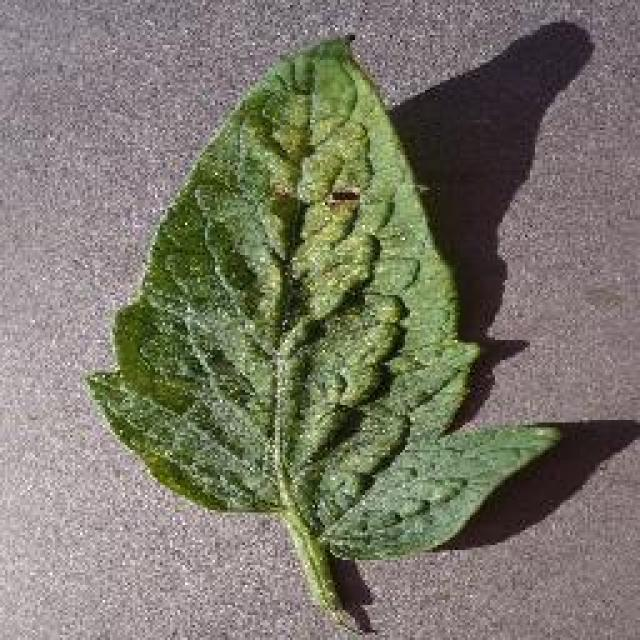Tomato mosaic virus leaf: (88, 36, 562, 559)
